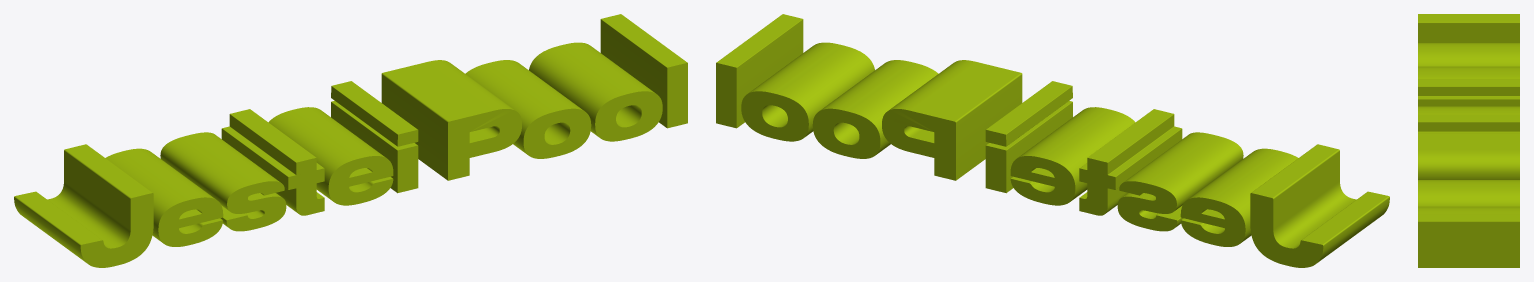
File: jestei-wordmark-pear.obj
3 renders of one model, left to right at view 1: azimuth 30°, elevation 25°; view 2: azimuth 150°, elevation 25°; view 3: azimuth 270°, elevation 25°, orthographic. The views are drawn at different scales.
Visible parts, largest first — view 1: jestei-wordmark-pear; view 2: jestei-wordmark-pear; view 3: jestei-wordmark-pear.
Boxes of the visible parts, bbox=[...] form: jestei-wordmark-pear: bbox=[14, 14, 687, 267]; jestei-wordmark-pear: bbox=[716, 14, 1389, 267]; jestei-wordmark-pear: bbox=[1418, 14, 1519, 267].
Size of the model in its own units: 2 by 0.2014 by 0.38.
